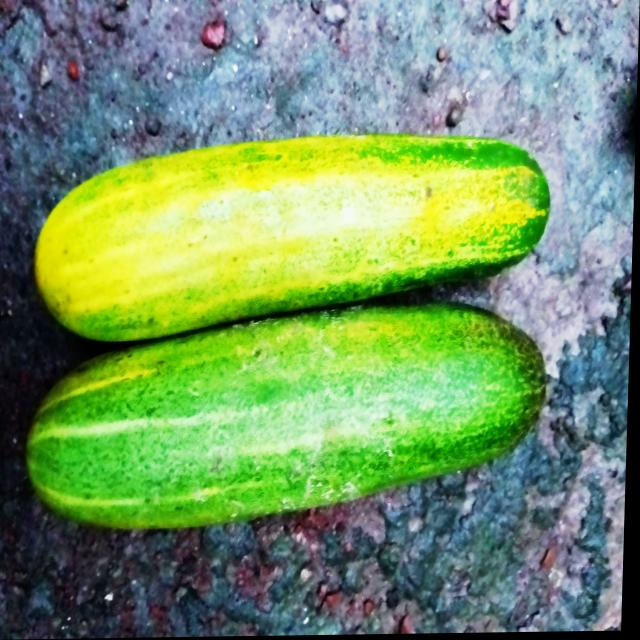Fresh-Cucumber: (25, 297, 552, 536), (30, 127, 554, 349)
